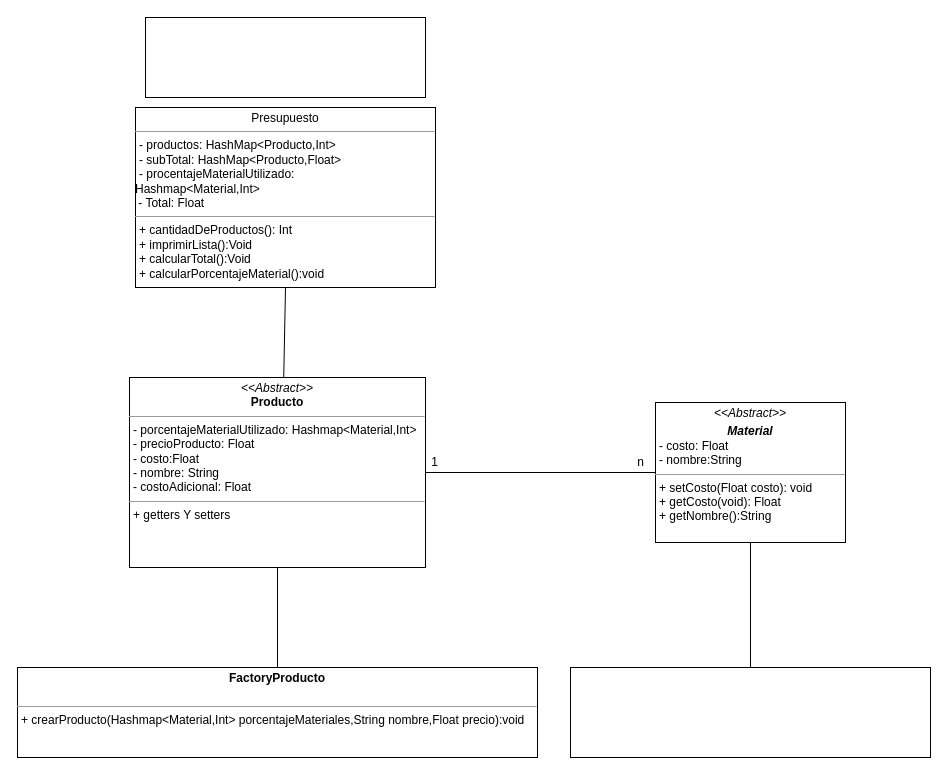
This 948x775 diagram has some shape labels left out. The shapes that lost their labels are listed below. From the top down, each one's centre as x and y in pixels, then its label:
the point at 285,57: Que el porcentaje siempre se redondee para arriba
the point at 750,712: FactoryMaterial + crearMaterial(Int material,String nombre);void
